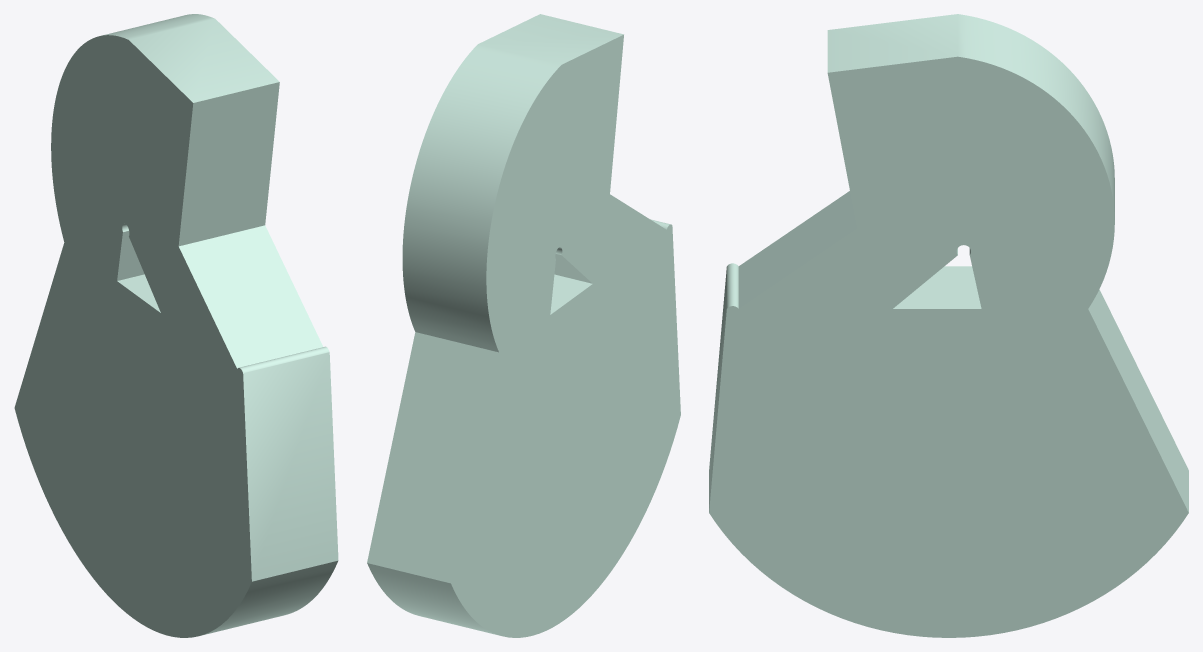
The picture shows the model from 3 angles, left to right: view 1: azimuth 30°, elevation 25°; view 2: azimuth 150°, elevation 25°; view 3: azimuth 270°, elevation 25°; orthographic projection. The views are drawn at different scales.
Parts seen in each view (by area): view 1: Renderer Node; view 2: Renderer Node; view 3: Renderer Node.
Part boxes in pixels (x1,y1,x2,y2): Renderer Node: (14, 14, 338, 637); Renderer Node: (367, 14, 680, 637); Renderer Node: (709, 14, 1188, 637).
Size of the model in its own units: 0.0547 by 0.3473 by 0.2598.
